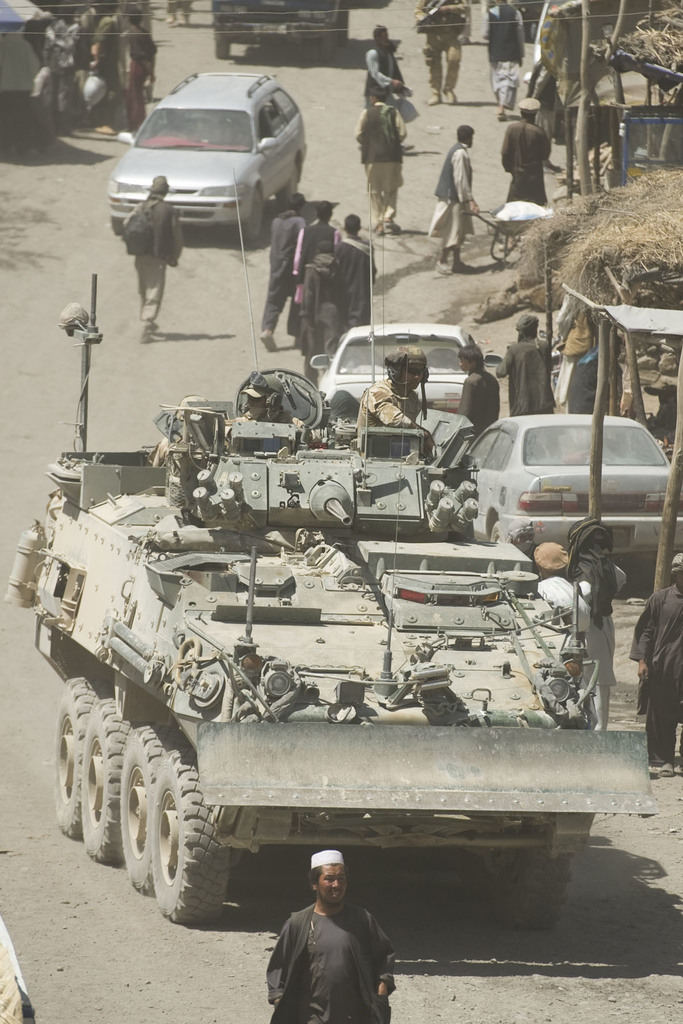cars: (457, 410, 680, 578), (109, 69, 319, 237), (319, 314, 510, 426)
